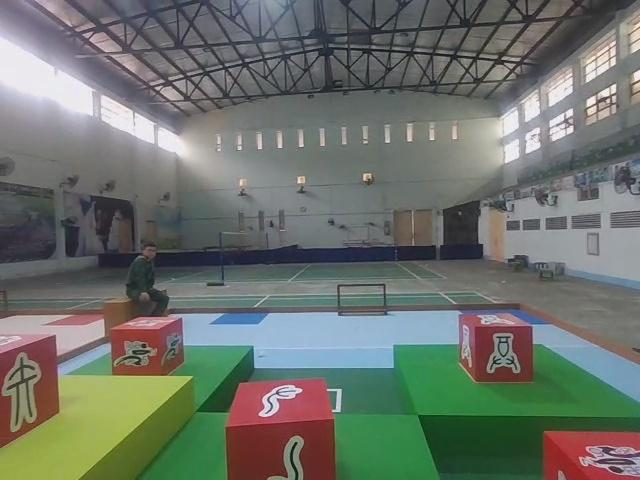R1: (539, 425, 640, 480), (112, 316, 186, 376)
R2 Fake: (0, 329, 65, 453)
R2 Real: (227, 380, 337, 480), (458, 312, 534, 383)
